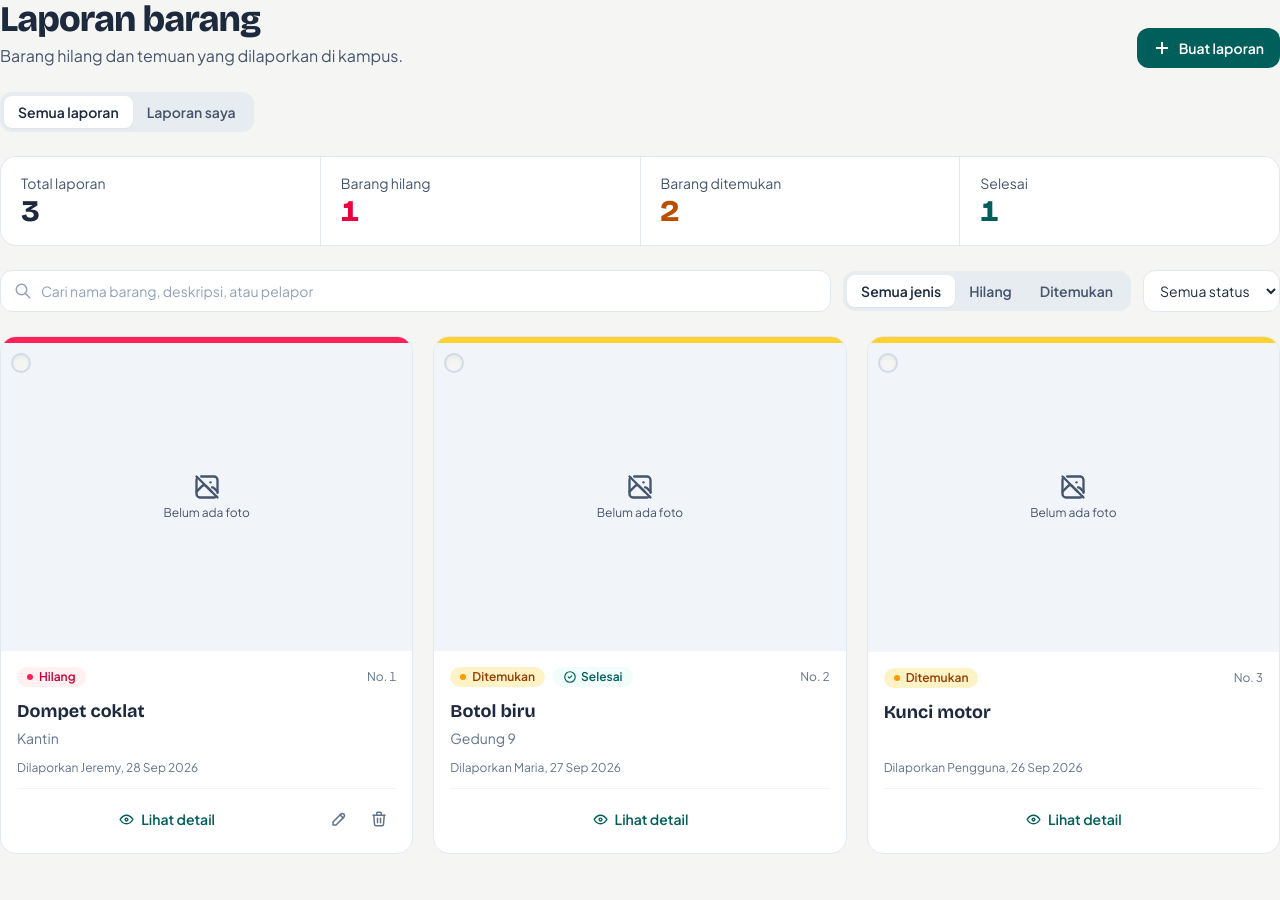
Scenario: HomePage › should add a report and reload list
This screenshot has width=1280, height=900.
Click the button with test id "add-lost-found-btn" at [1208, 48], box [1137, 28, 1279, 68]
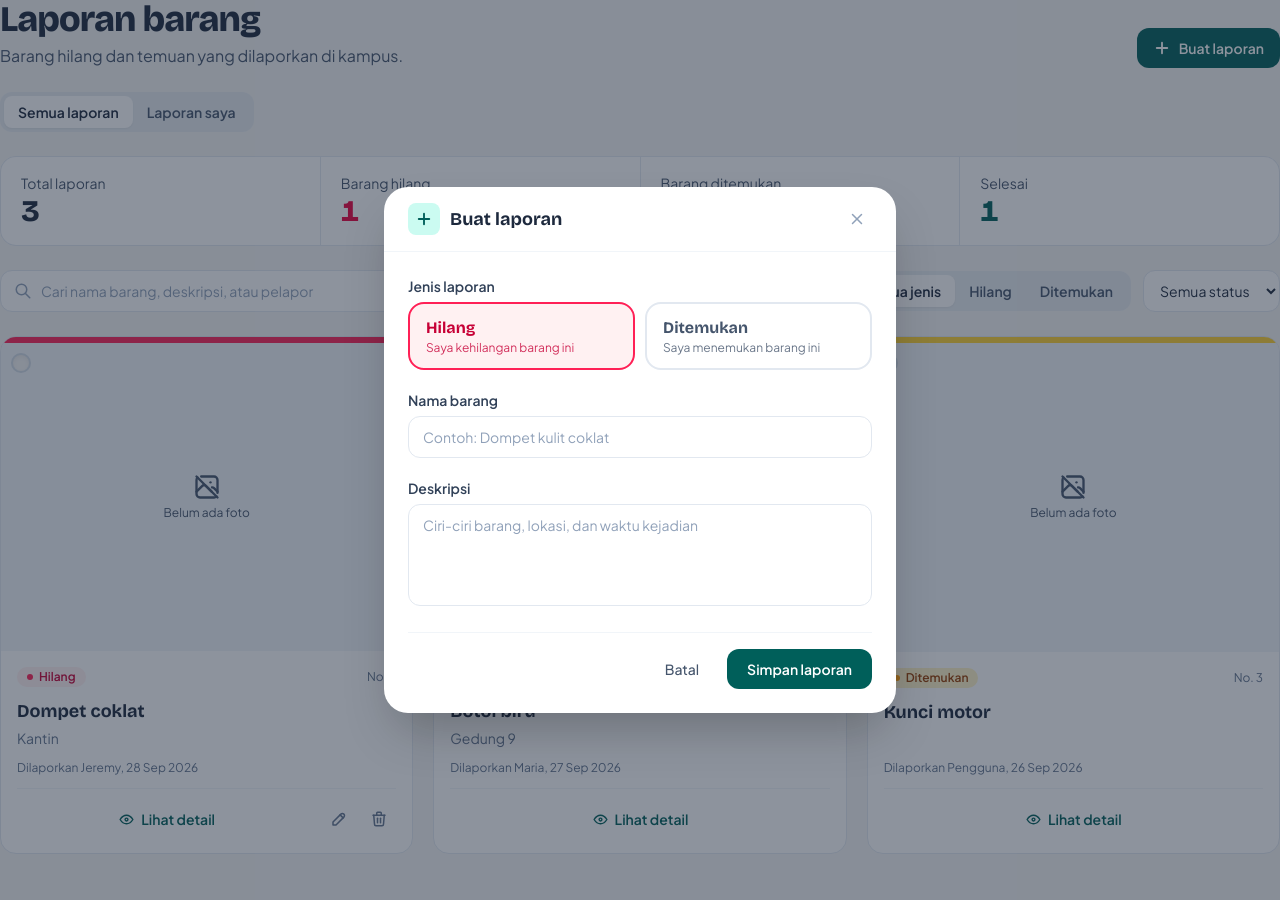
Type "Payung" into the field with test id "add-title-input" at [640, 437], box [408, 416, 872, 458]
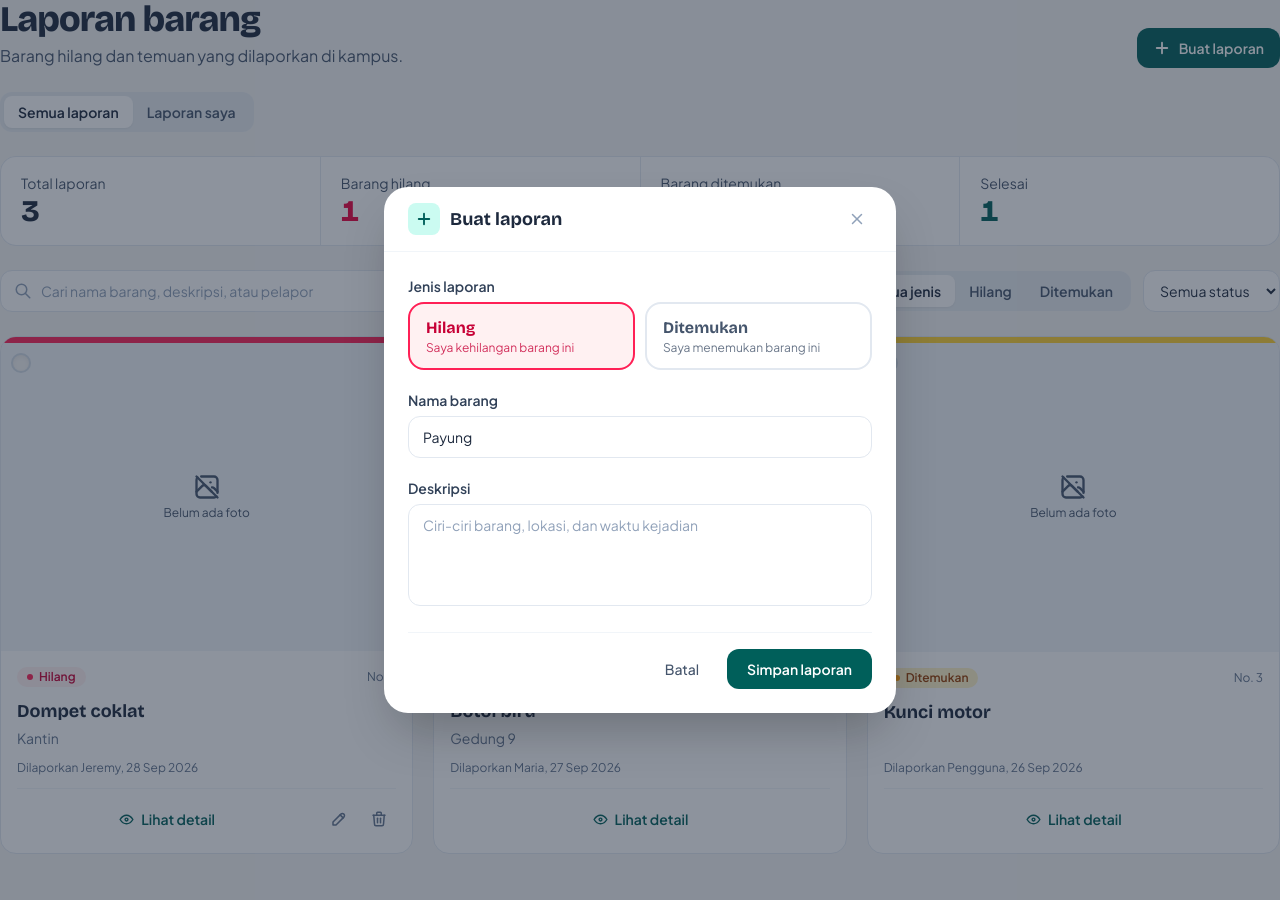
Type "Hitam" into the text box with test id "add-description-input" at [640, 555], box [408, 504, 872, 606]
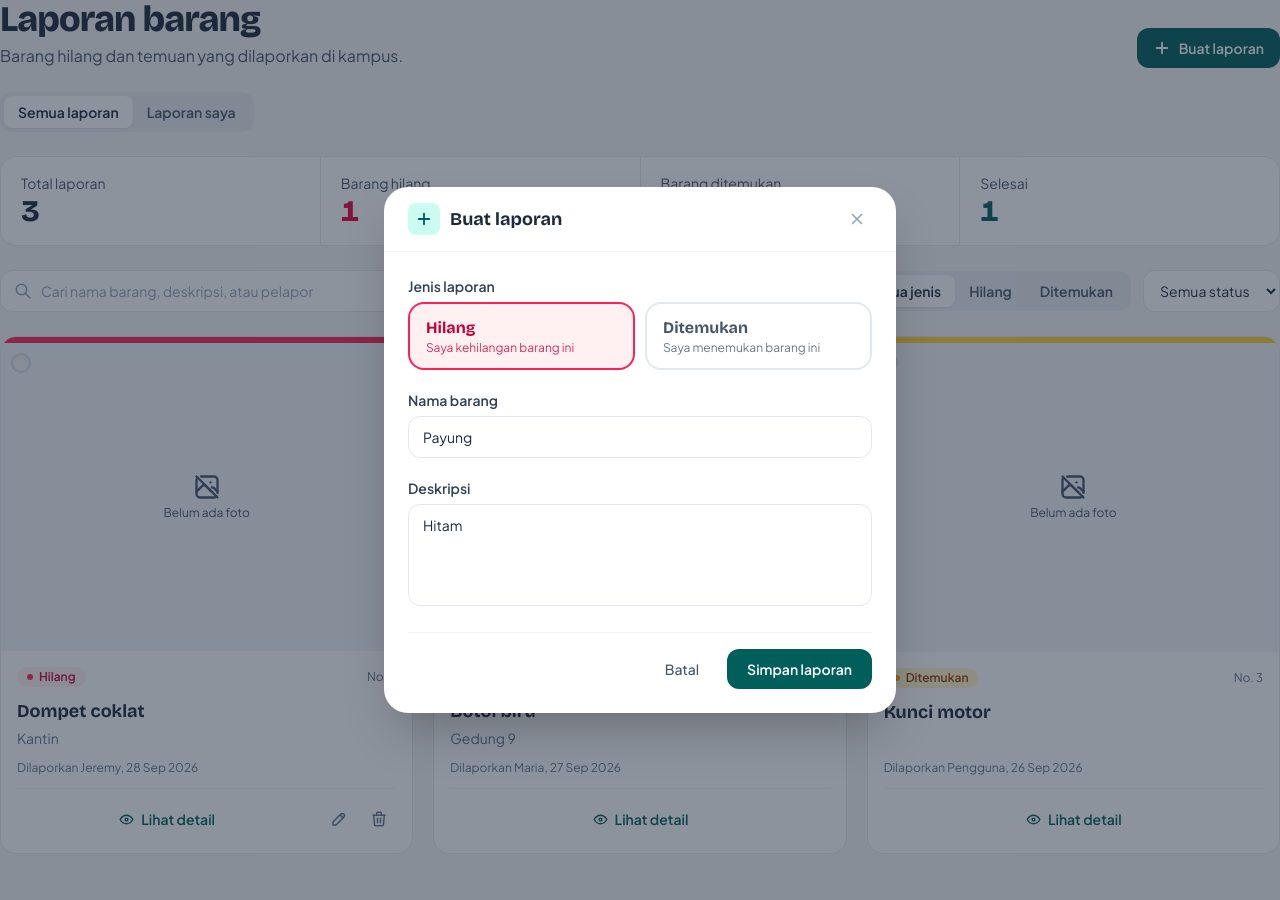
Click the button with test id "submit-add-modal-btn" at [800, 669], box [727, 649, 872, 689]
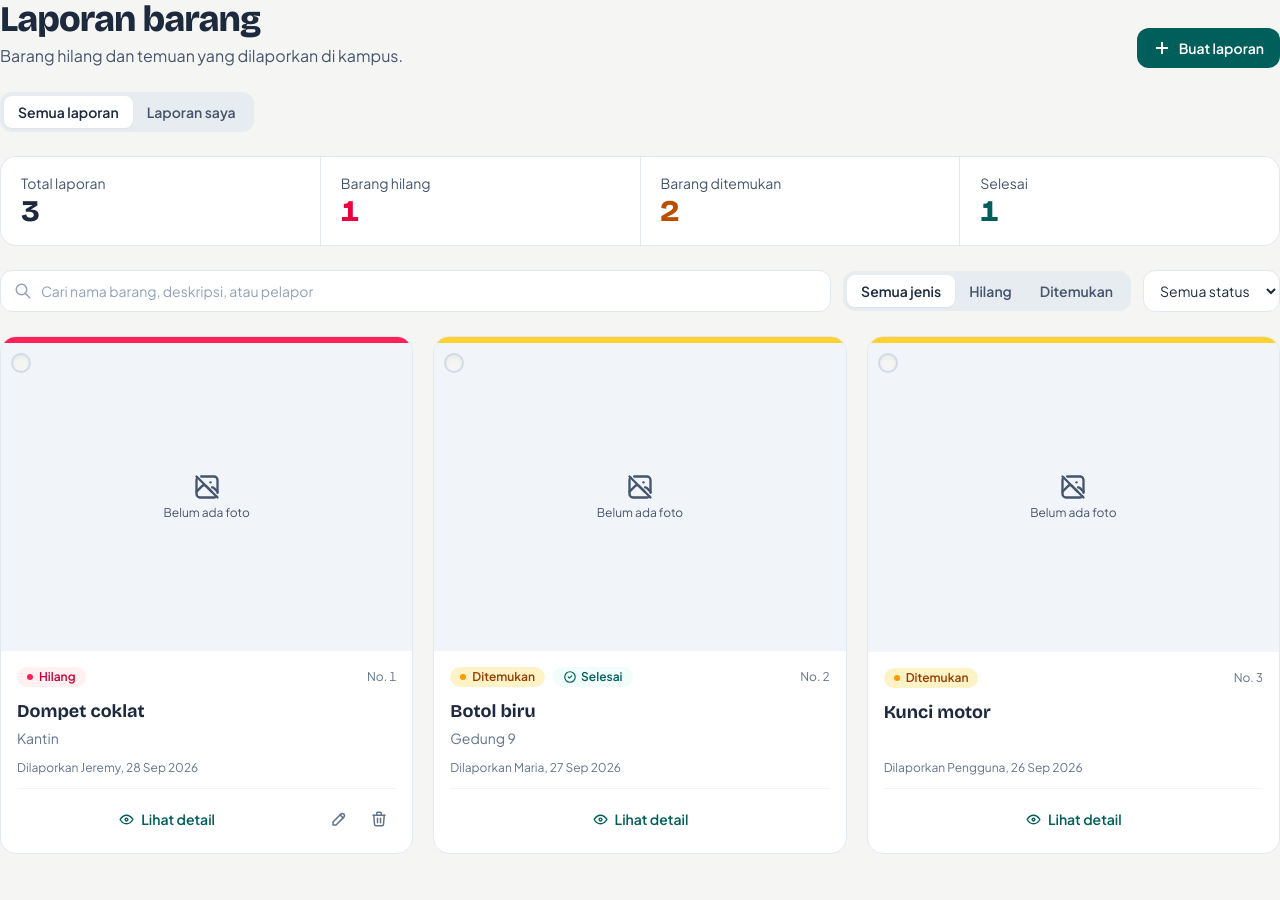
Check: the dialog with test id "add-lost-found-modal" is gone
